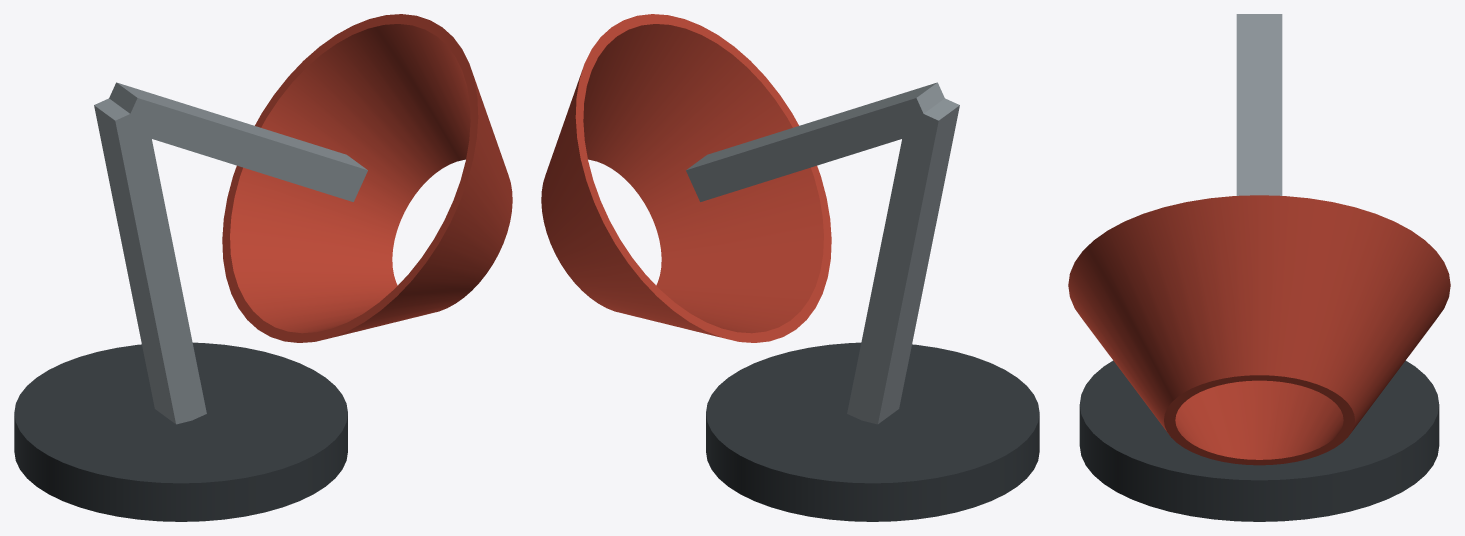
Rendered from dead_desk_lamp.glb.
The picture shows the model from 3 angles, left to right: view 1: azimuth 30°, elevation 25°; view 2: azimuth 150°, elevation 25°; view 3: azimuth 270°, elevation 25°; orthographic projection. The views are drawn at different scales.
Visible parts, largest first — view 1: shade:shade, base:base, arm:arm; view 2: shade:shade, base:base, arm:arm; view 3: shade:shade, base:base, arm:arm.
Boxes of the visible parts, left/top/right/bottom form: shade:shade: left=222, top=14, right=512, bottom=342; base:base: left=14, top=342, right=347, bottom=521; arm:arm: left=94, top=82, right=367, bottom=424; shade:shade: left=541, top=14, right=831, bottom=342; base:base: left=706, top=342, right=1039, bottom=521; arm:arm: left=686, top=82, right=959, bottom=424; shade:shade: left=1068, top=195, right=1450, bottom=465; base:base: left=1079, top=360, right=1439, bottom=521; arm:arm: left=1236, top=14, right=1282, bottom=195.
Bounding box in the file's own units: 0.149 × 0.1164 × 0.1.
